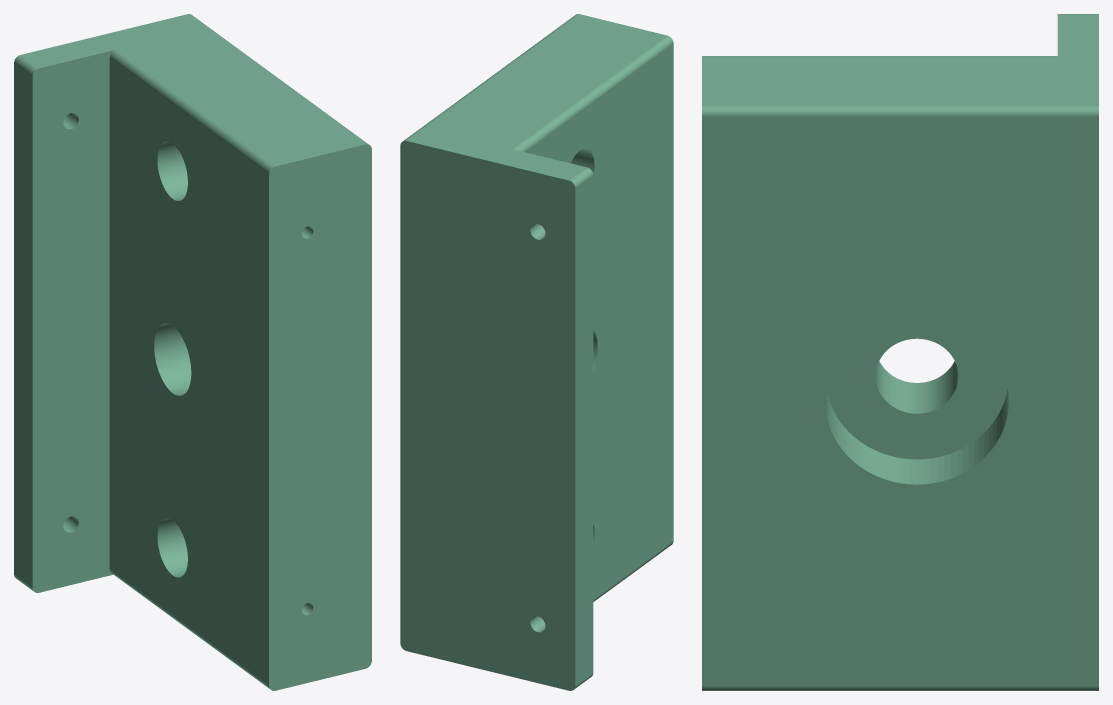
3 renders of one model, left to right at view 1: azimuth 30°, elevation 25°; view 2: azimuth 150°, elevation 25°; view 3: azimuth 270°, elevation 25°, orthographic. The views are drawn at different scales.
Visible parts, largest first — view 1: W10_linear_idler_end_block; view 2: W10_linear_idler_end_block; view 3: W10_linear_idler_end_block.
Boxes of the visible parts, bbox=[...] form: W10_linear_idler_end_block: bbox=[14, 14, 371, 690]; W10_linear_idler_end_block: bbox=[400, 14, 673, 690]; W10_linear_idler_end_block: bbox=[702, 14, 1098, 690].
Bounding box in the file's own units: 28 × 78 × 48.
